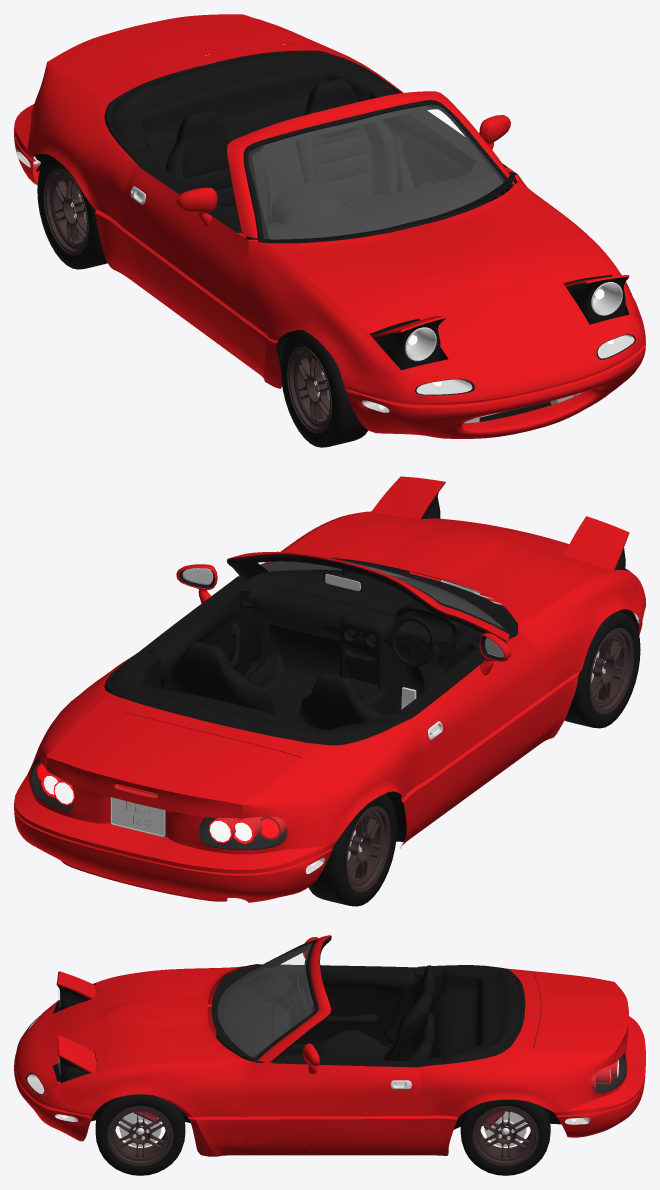
File: miata.glb
The picture shows the model from 3 angles, top to bottom: view 1: azimuth 30°, elevation 25°; view 2: azimuth 150°, elevation 25°; view 3: azimuth 270°, elevation 25°; orthographic projection. The views are drawn at different scales.
Parts seen in each view (by area): view 1: hood.013, hood.012, hood.021, hood.020, Cube.002, Cube.008, hood.014, Plane.001, hood.016, hood.017, hood.022, hood.024 (+9 smaller); view 2: hood.012, Plane.001, hood.016, hood.020, hood.013, hood.018, Cube.008, Cube.002, hood.024, Cube.003, hood.022, Cylinder.005 (+11 smaller); view 3: hood.012, hood.020, hood.013, hood.016, Plane.001, hood.021, Cube.002, Cube.008, Cylinder.006, hood.014, Cylinder.005, Plane.004 (+15 smaller).
Part boxes in pixels (<box>): hood.013: <box>267,182,629,361</box>; hood.012: <box>14,15,644,396</box>; hood.021: <box>252,105,502,238</box>; hood.020: <box>122,110,531,350</box>; Cube.002: <box>109,52,390,169</box>; Cube.008: <box>165,78,399,222</box>; hood.014: <box>373,314,645,404</box>; Plane.001: <box>129,87,515,353</box>; hood.016: <box>47,14,314,102</box>; hood.017: <box>344,339,645,438</box>; hood.022: <box>226,91,515,243</box>; hood.024: <box>371,275,629,370</box>; hood.012: <box>14,513,644,869</box>; Plane.001: <box>161,561,515,757</box>; hood.016: <box>47,693,318,818</box>; hood.020: <box>126,575,548,811</box>; hood.013: <box>268,511,628,623</box>; hood.018: <box>14,787,336,902</box>; Cube.008: <box>170,641,384,729</box>; Cube.002: <box>109,661,389,740</box>; hood.024: <box>371,476,629,570</box>; Cube.003: <box>340,613,404,706</box>; hood.022: <box>227,551,509,641</box>; Cylinder.005: <box>308,794,396,906</box>; hood.012: <box>58,965,645,1156</box>; hood.020: <box>238,964,421,1145</box>; hood.013: <box>48,966,242,1083</box>; hood.016: <box>510,971,628,1063</box>; Plane.001: <box>211,965,457,1061</box>; hood.021: <box>218,943,312,1056</box>; Cube.002: <box>438,966,520,1062</box>; Cube.008: <box>383,965,434,1061</box>; Cylinder.006: <box>95,1094,185,1175</box>; hood.014: <box>15,1001,67,1111</box>; Cylinder.005: <box>460,1099,550,1175</box>; Plane.004: <box>472,1105,538,1166</box>.
Bounding box in the file's own units: 3.26 × 2.01 × 7.16.
